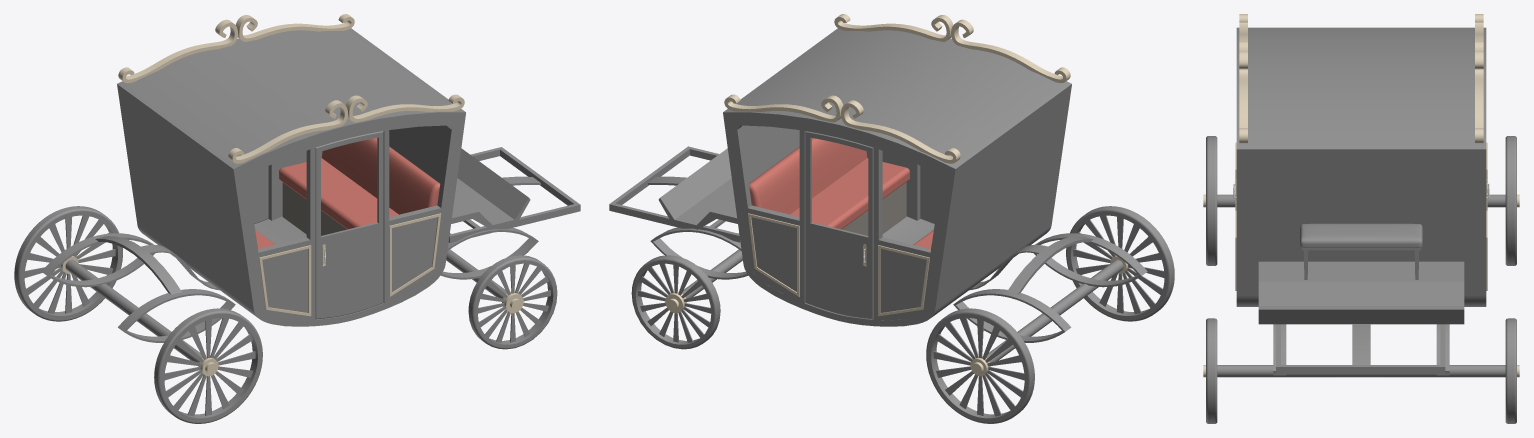
3 renders of one model, left to right at view 1: azimuth 30°, elevation 25°; view 2: azimuth 150°, elevation 25°; view 3: azimuth 270°, elevation 25°, orthographic. The views are drawn at different scales.
Parts seen in each view (by area): view 1: top, sharin1, kabe_2, kabe_3, chair_2, sharin_2, door_2, kabe_4, 床, kabe_1, door_1; view 2: top, sharin1, kabe_2, kabe_1, chair_2, sharin_2, door_1, kabe_4, 床, kabe_3, door_2; view 3: kabe_4, top, sharin_2, sharin1, 床.
Boxes of the visible parts, x1,y1,x2,y2 form: top: (117,14,465,174); sharin1: (14,206,262,423); kabe_2: (118,90,262,314); kabe_3: (240,118,459,320); chair_2: (279,138,440,235); sharin_2: (441,147,580,349); door_2: (315,131,383,319); kabe_4: (389,118,530,270); 床: (140,216,443,326); kabe_1: (268,151,322,220); door_1: (248,166,268,223); top: (723,14,1071,174); sharin1: (926,206,1174,423); kabe_2: (926,90,1071,314); kabe_1: (729,118,948,320); chair_2: (749,138,909,235); sharin_2: (609,146,748,349); door_1: (805,131,873,319); kabe_4: (658,118,799,270); 床: (745,216,1049,326); kabe_3: (866,151,920,220); door_2: (920,166,940,223); kabe_4: (1236,155,1486,324); top: (1236,14,1486,155); sharin_2: (1203,318,1519,423); sharin1: (1203,136,1519,265); 床: (1236,300,1486,306).
Size of the model in its own units: 6.02 by 3.43 by 3.36.
